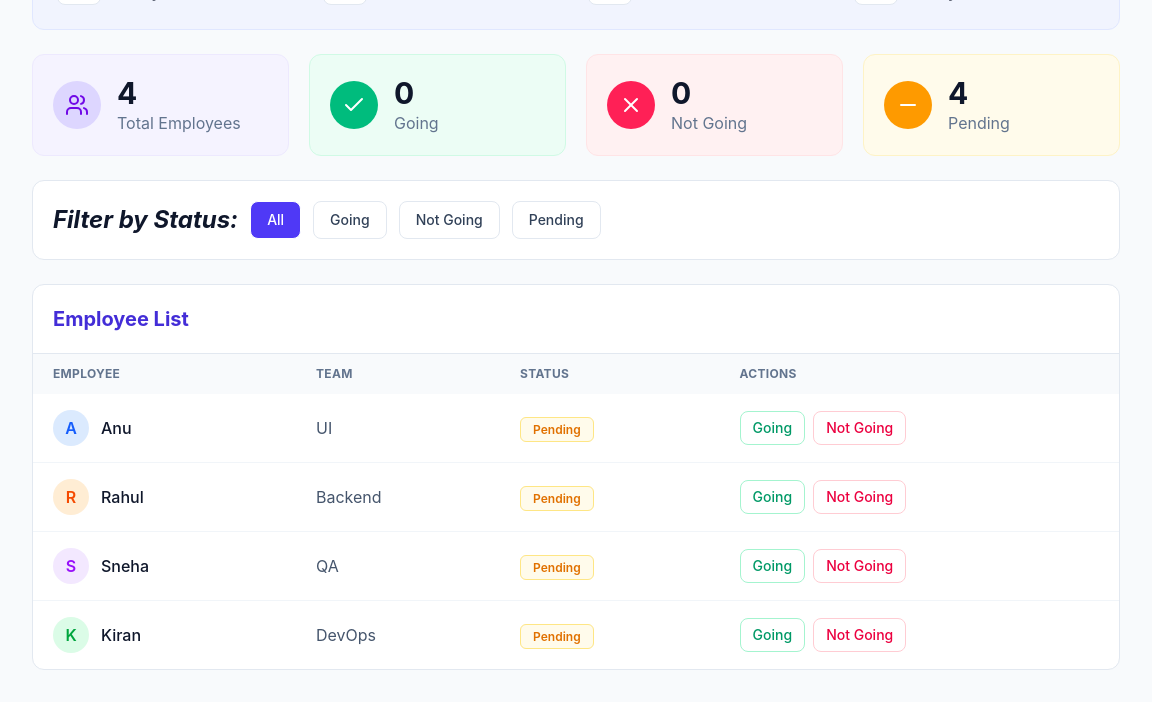
Test: App › updates status to Not Going and reflects it in counts
(page scrolled)
Click the button with aria-label "Mark Rahul as Not Going".
click(860, 497)  # box [813, 480, 906, 514]
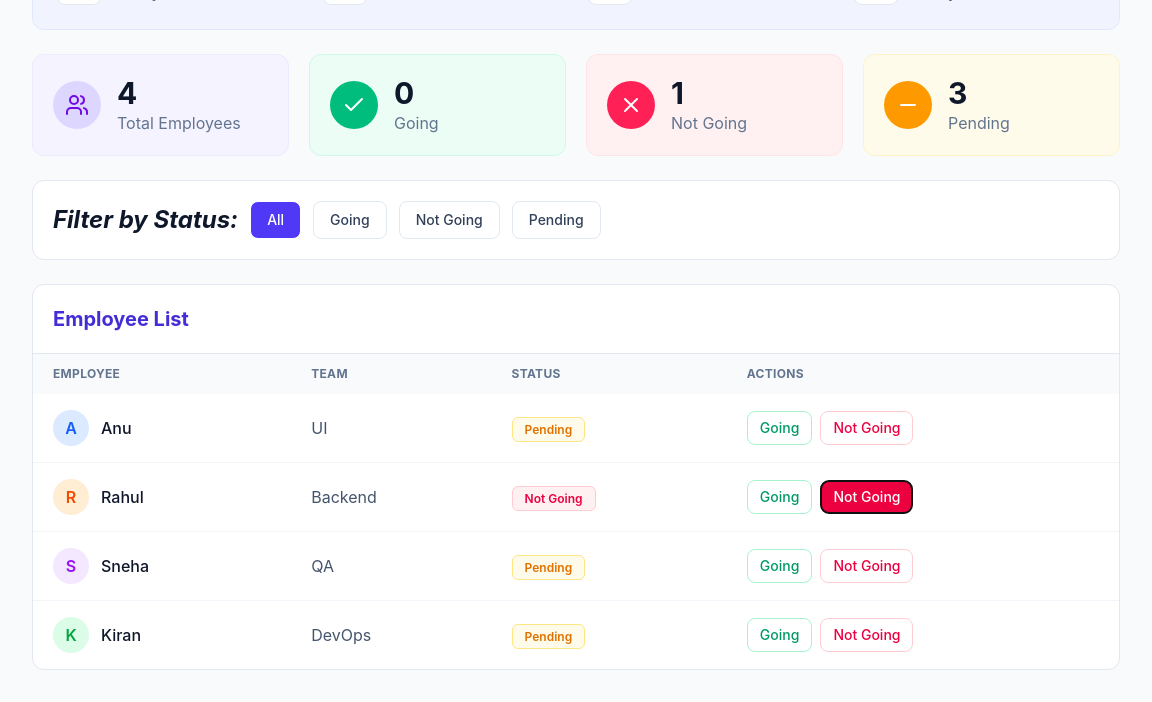
Now the text with test id "status-badge-2" reads "Not Going", box [525, 491, 583, 506]
Now the element with test id "summary-not-going" shows "1", box [671, 75, 684, 111]
Now the element with test id "summary-pending" shows "3", box [948, 75, 967, 111]
